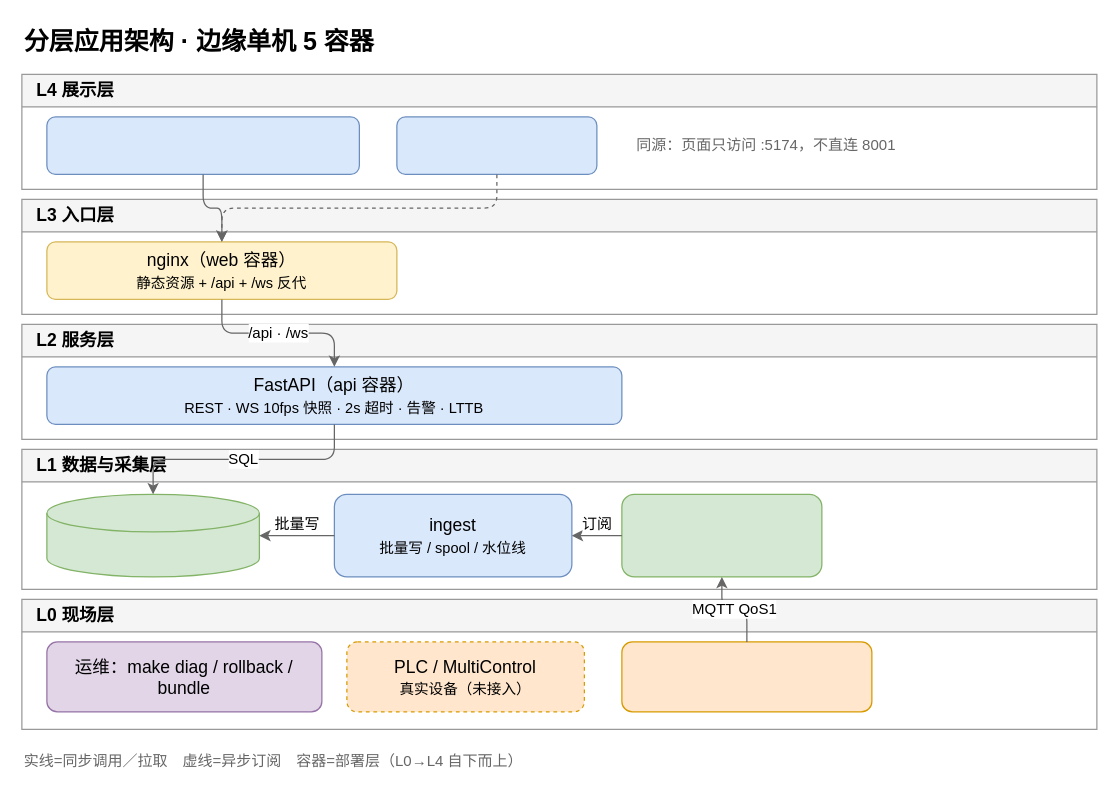
Image size: 1119x798. Some labels were removed from this diagram. Here are the shapes that lost their labels. From the top down, the centre of each, then its label:
At pixel 202 145: "浏览器 React 19 + ECharts".
At pixel 496 145: "移动端（只读）".
At pixel 152 535: "TimescaleDB 超表 / 1m 聚合 / events".
At pixel 721 535: "Mosquitto QoS1 · 1884".
At pixel 746 676: "模拟器 6区×6驱动 @10Hz".
